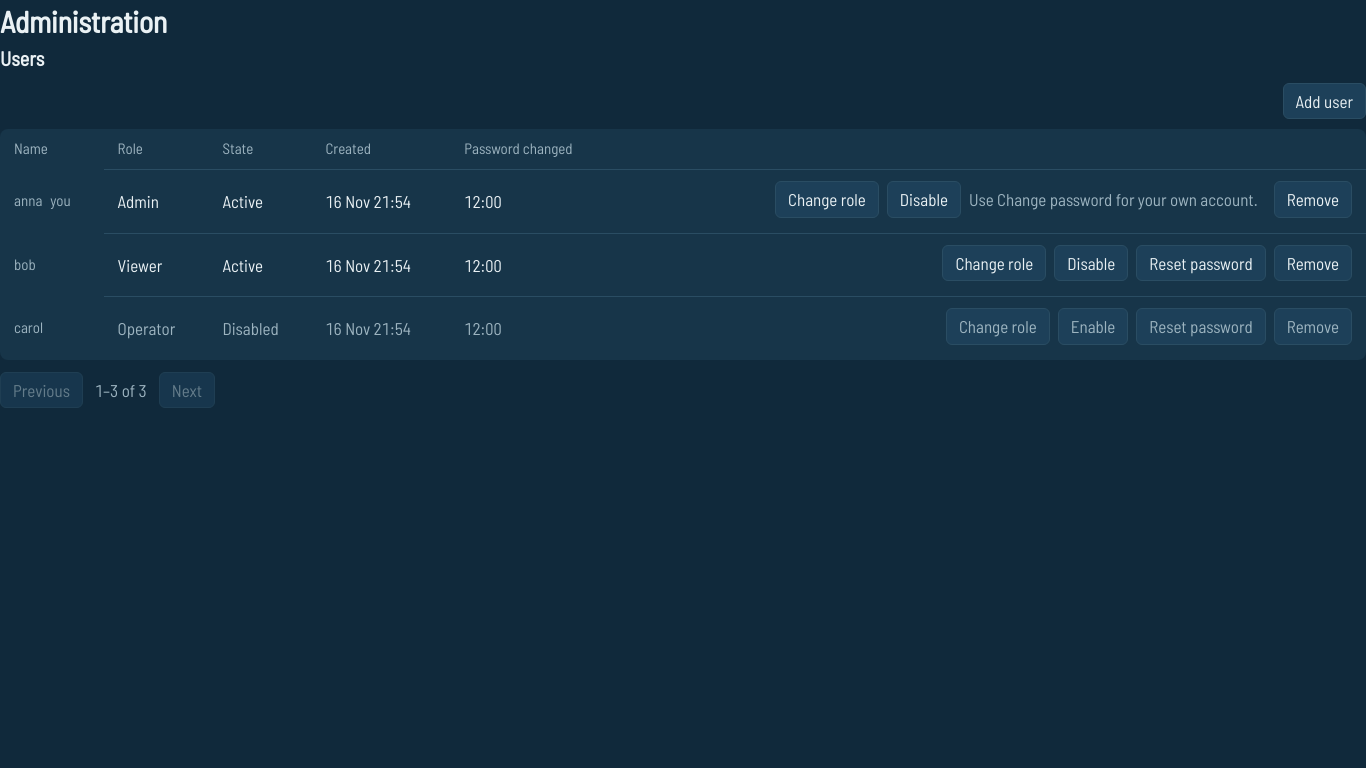
Test: AdministrationPage › changes a role with PATCH, only once it differs
Click the button with aria-label "Change role of bob" at coordinates (994, 263), box [942, 244, 1046, 281]
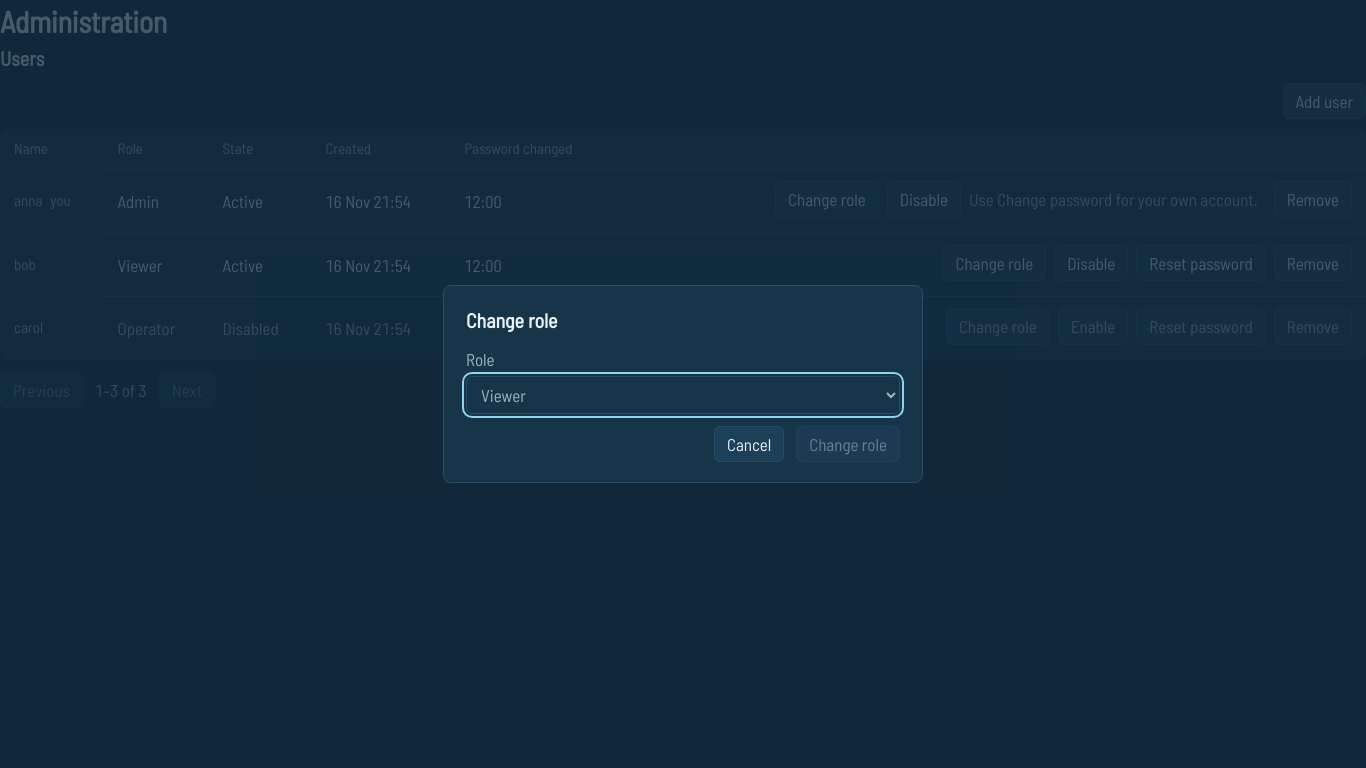
Expected: the dropdown labelled "Role" shows "Viewer"
Expected: the button "Change role" is disabled, [796, 426, 900, 462]
Select "Operator" in the dropdown labelled "Role" at coordinates (683, 394), box [466, 376, 900, 414]
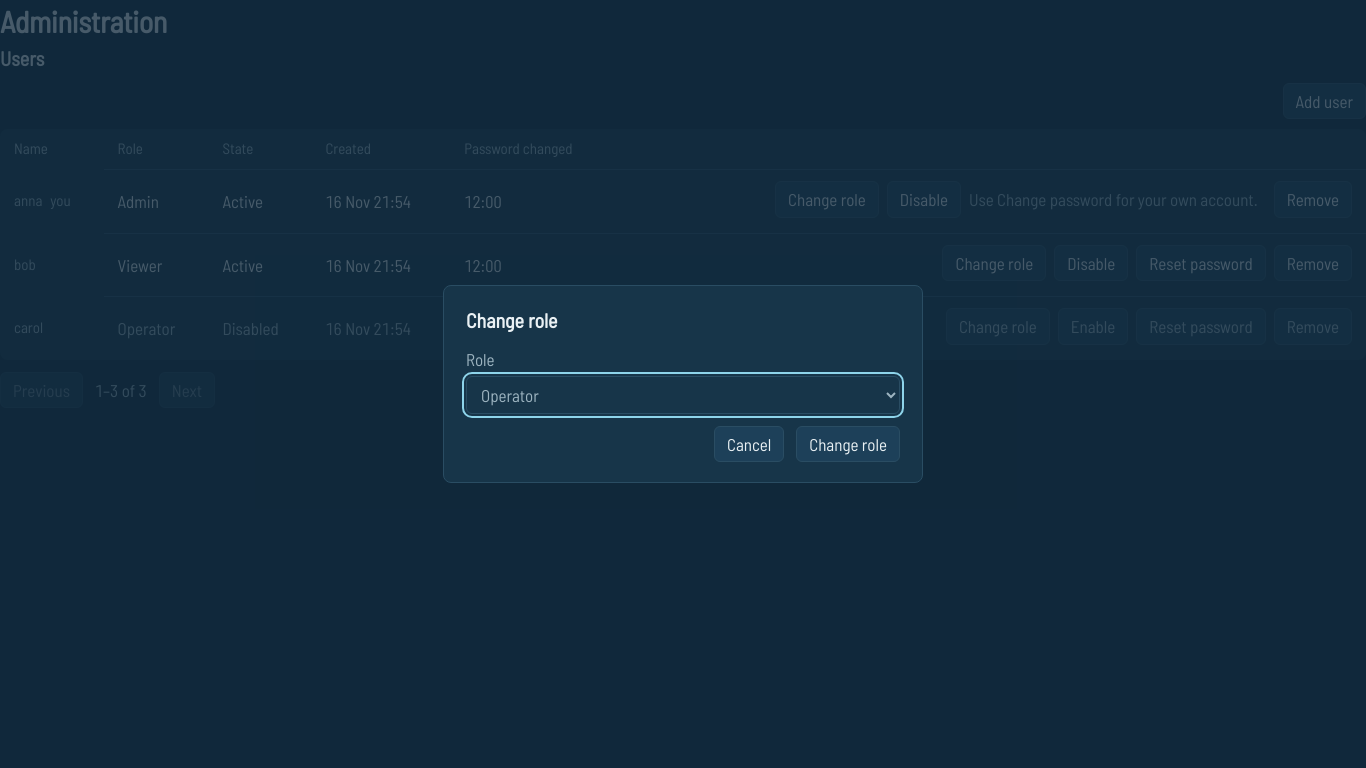
Click the button "Change role" at coordinates (848, 444), box [796, 426, 900, 462]
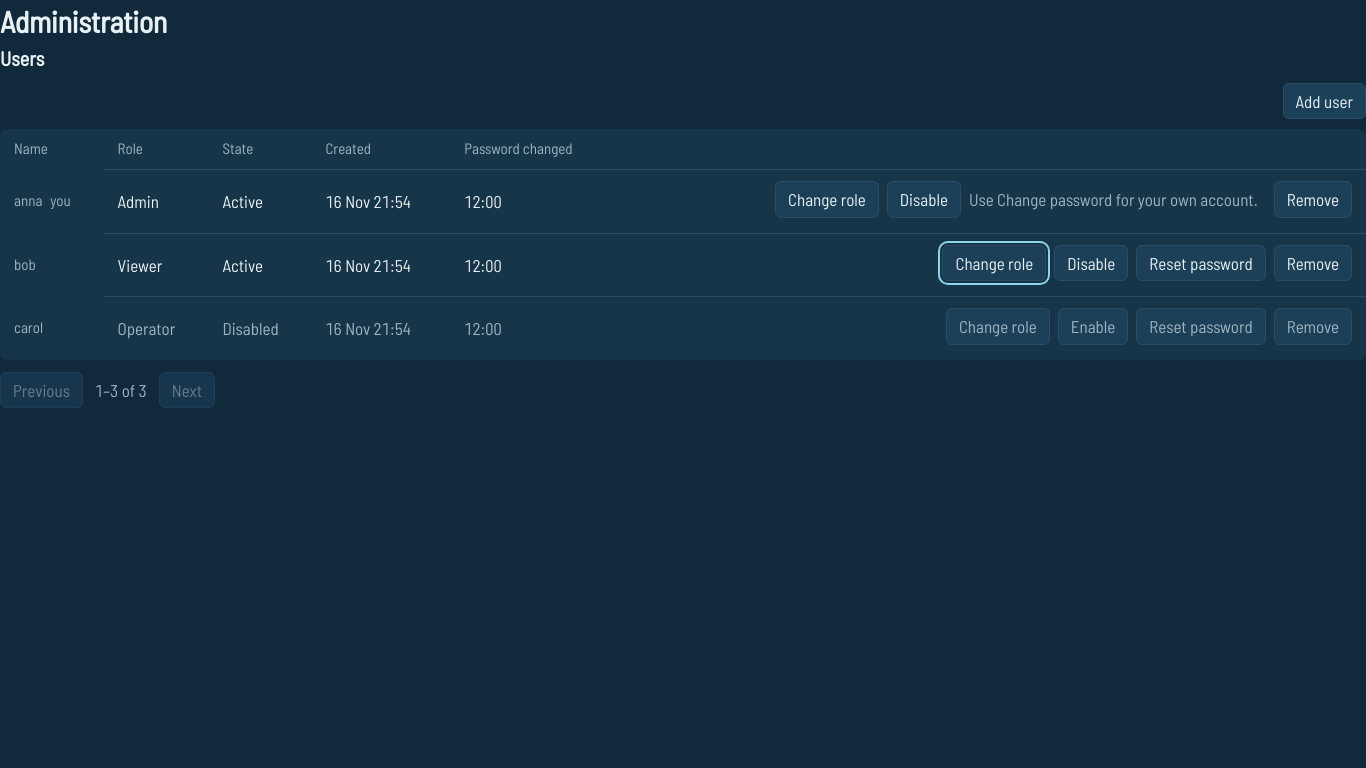
Expected: the dialog is gone
